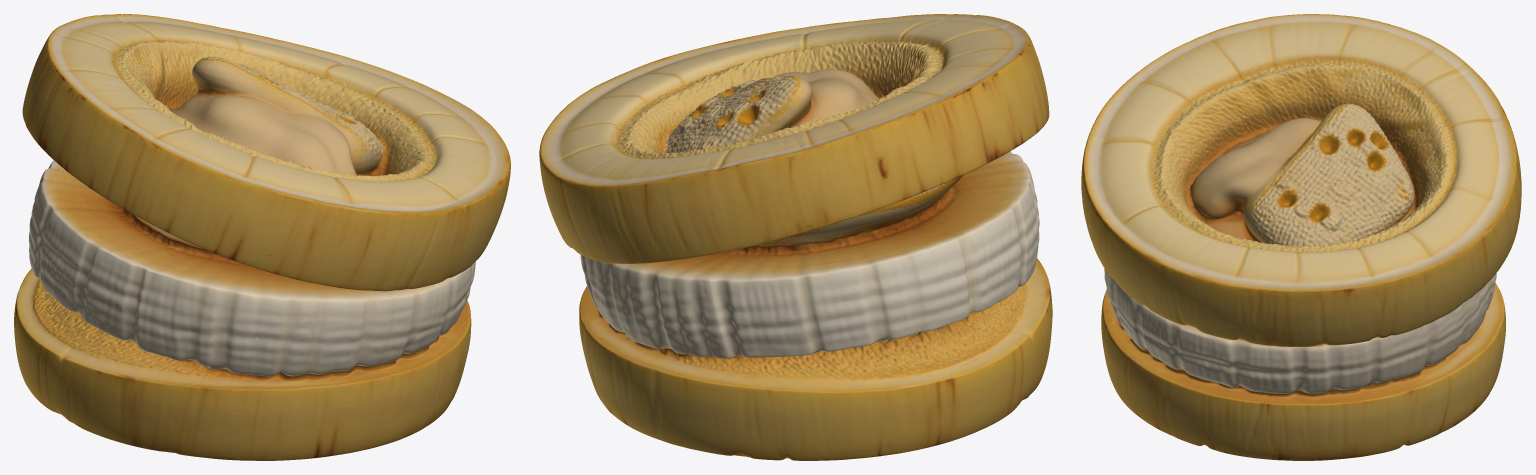
The model's file is raw.glb.
3 renders of one model, left to right at view 1: azimuth 30°, elevation 25°; view 2: azimuth 150°, elevation 25°; view 3: azimuth 270°, elevation 25°, orthographic. The views are drawn at different scales.
Parts seen in each view (by area): view 1: tripo_node_ea7e7547-56bb-4f2a-bd53-bf1ca4de978f; view 2: tripo_node_ea7e7547-56bb-4f2a-bd53-bf1ca4de978f; view 3: tripo_node_ea7e7547-56bb-4f2a-bd53-bf1ca4de978f.
Part boxes in pixels (box(x1,y1,x2,y2)): tripo_node_ea7e7547-56bb-4f2a-bd53-bf1ca4de978f: box(14, 14, 510, 460); tripo_node_ea7e7547-56bb-4f2a-bd53-bf1ca4de978f: box(539, 14, 1052, 460); tripo_node_ea7e7547-56bb-4f2a-bd53-bf1ca4de978f: box(1081, 14, 1521, 460).
Bounding box in the file's own units: 0.9987 × 0.7417 × 0.9947.
1 material, 1 textured.
